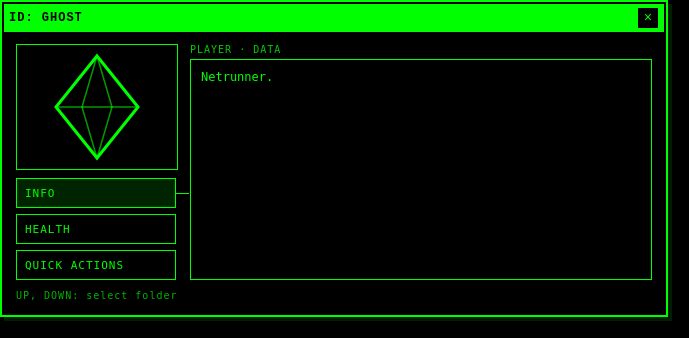
Test case: which folders a viewer gets › shows what it was handed in HEALTH and QUICK ACTIONS
This screenshot has width=689, height=338.
What coordinates should you click on to do the following:
click the tab "HEALTH"
I would click on:
 (96, 229)
Its box is [16,214,176,244].
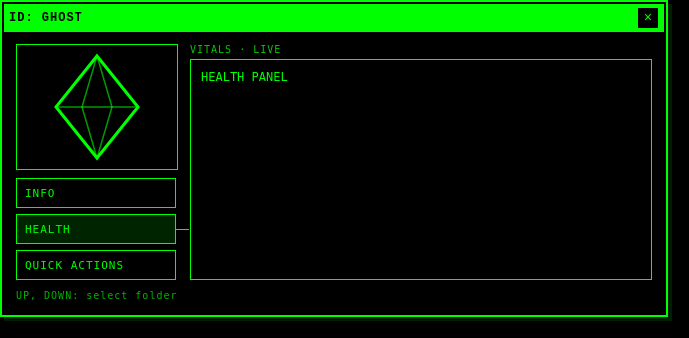
Expected: the panel reads "HEALTH PANEL", [201,70,288,84]
What coordinates should you click on to do the following:
click the tab "QUICK ACTIONS"
I would click on:
 (96, 265)
Its box is [16,250,176,280].
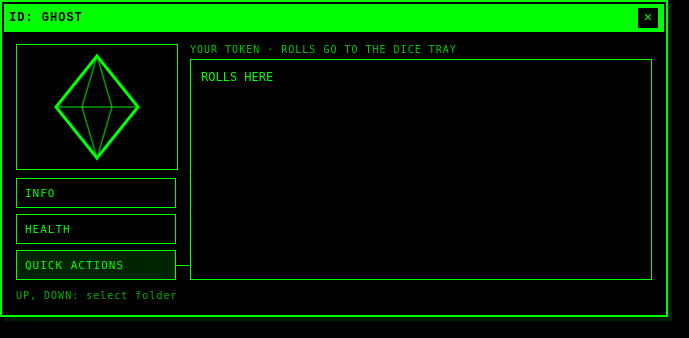
Expected: the panel reads "ROLLS HERE", [201,70,273,84]
